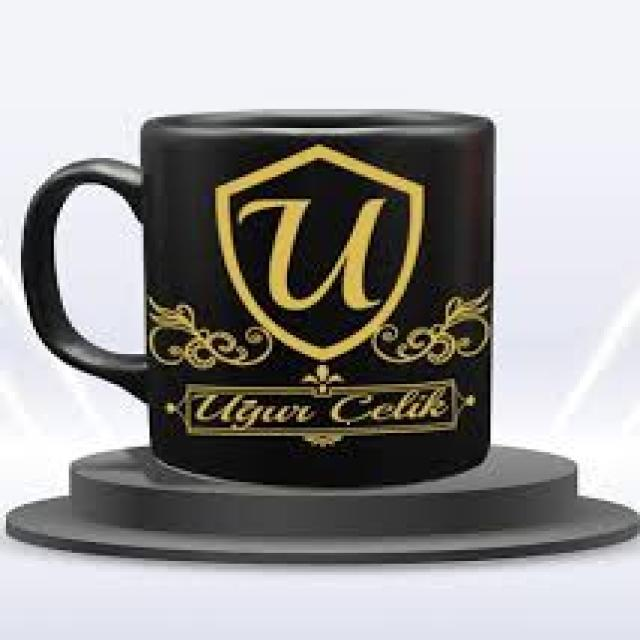taza: (22, 106, 498, 487)
